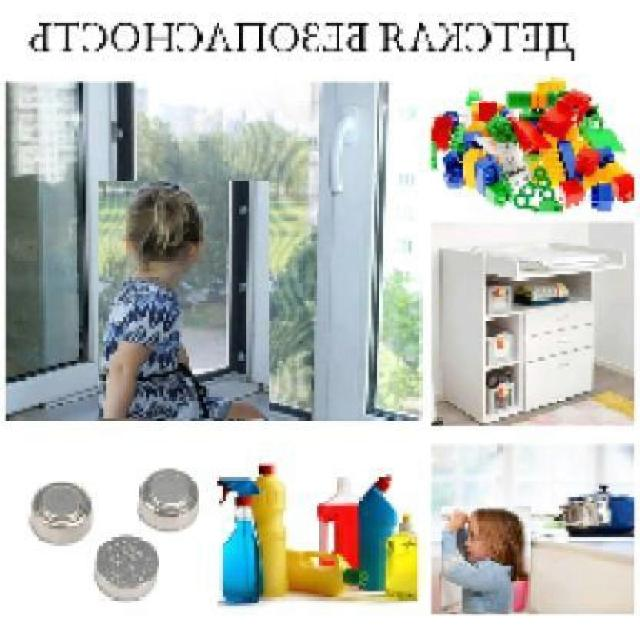child: (97, 180, 269, 420), (440, 506, 531, 614)
